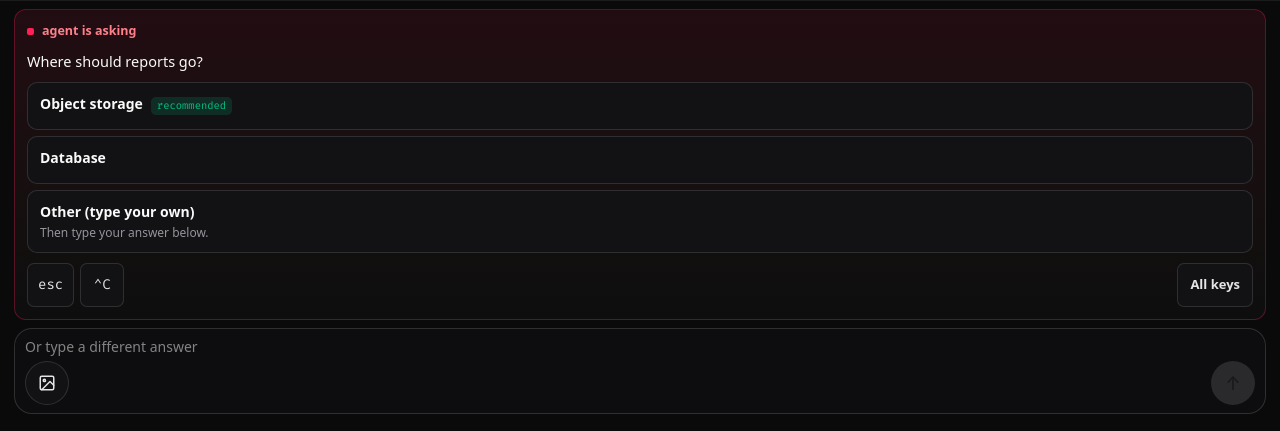
Test: Composer › a write-in answer asks for typed text
Click the button "Other (type your own) Then type your answer below.": click(117, 211) [27,190,1253,253]
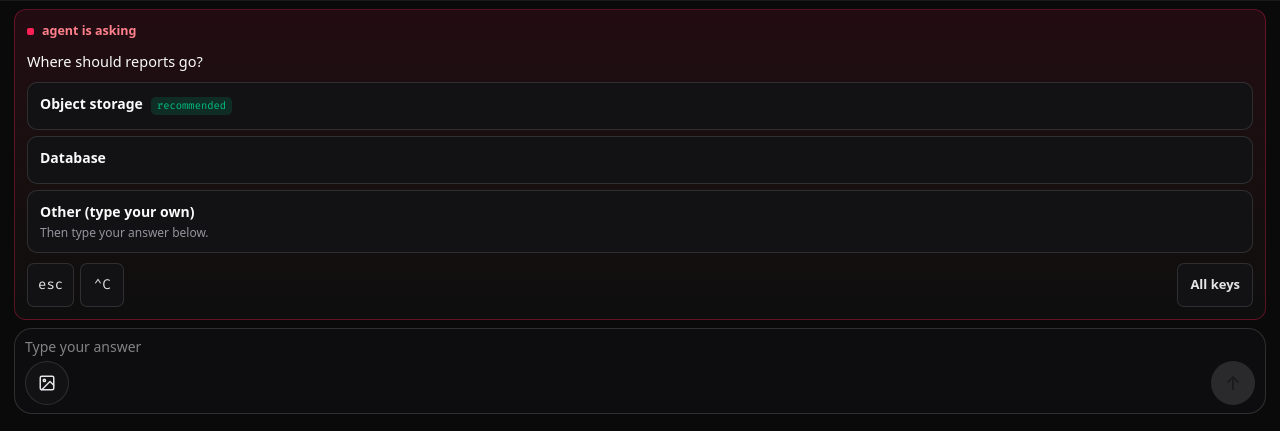
Now the text box with placeholder "Type your answer" is shown, box [25,337,1255,357]
